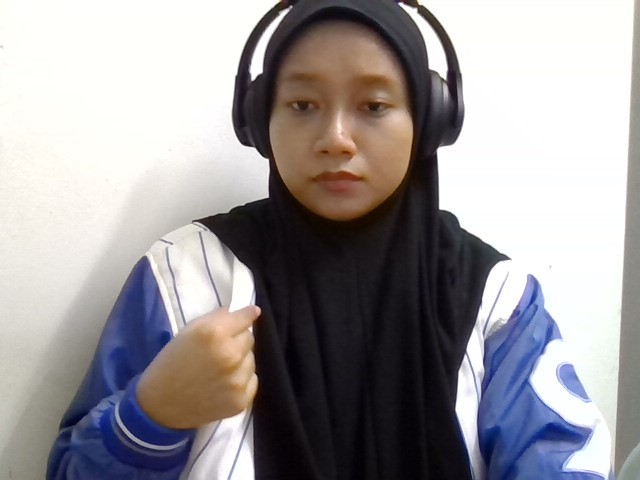Baju: (139, 305, 263, 430)
